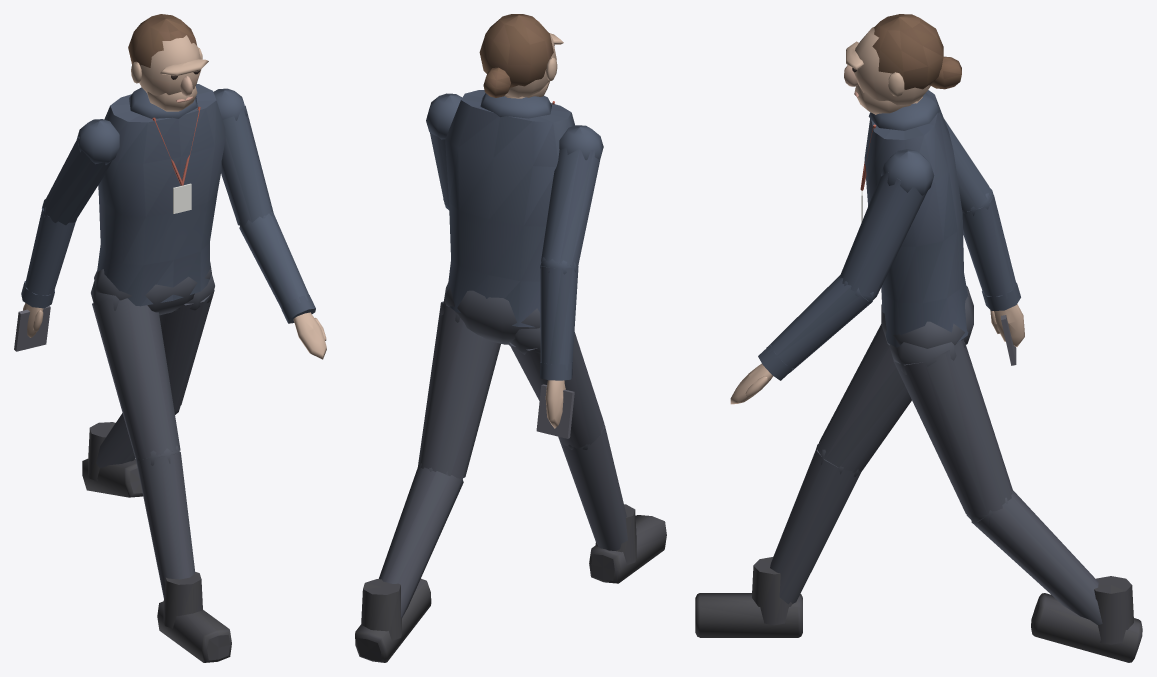
The model's file is rennick_walking_a.glb.
3 views of the same model, side by side, from view 1: azimuth 30°, elevation 25°; view 2: azimuth 150°, elevation 25°; view 3: azimuth 270°, elevation 25° (orthographic). The views are drawn at different scales.
Visible parts, largest first — view 1: body; view 2: body; view 3: body.
Boxes of the visible parts, x1,y1,x2,y2 form: body: [14, 14, 326, 662]; body: [355, 14, 666, 662]; body: [695, 14, 1142, 662].
Bounding box in the file's own units: 0.5801 × 1.63 × 1.04.
